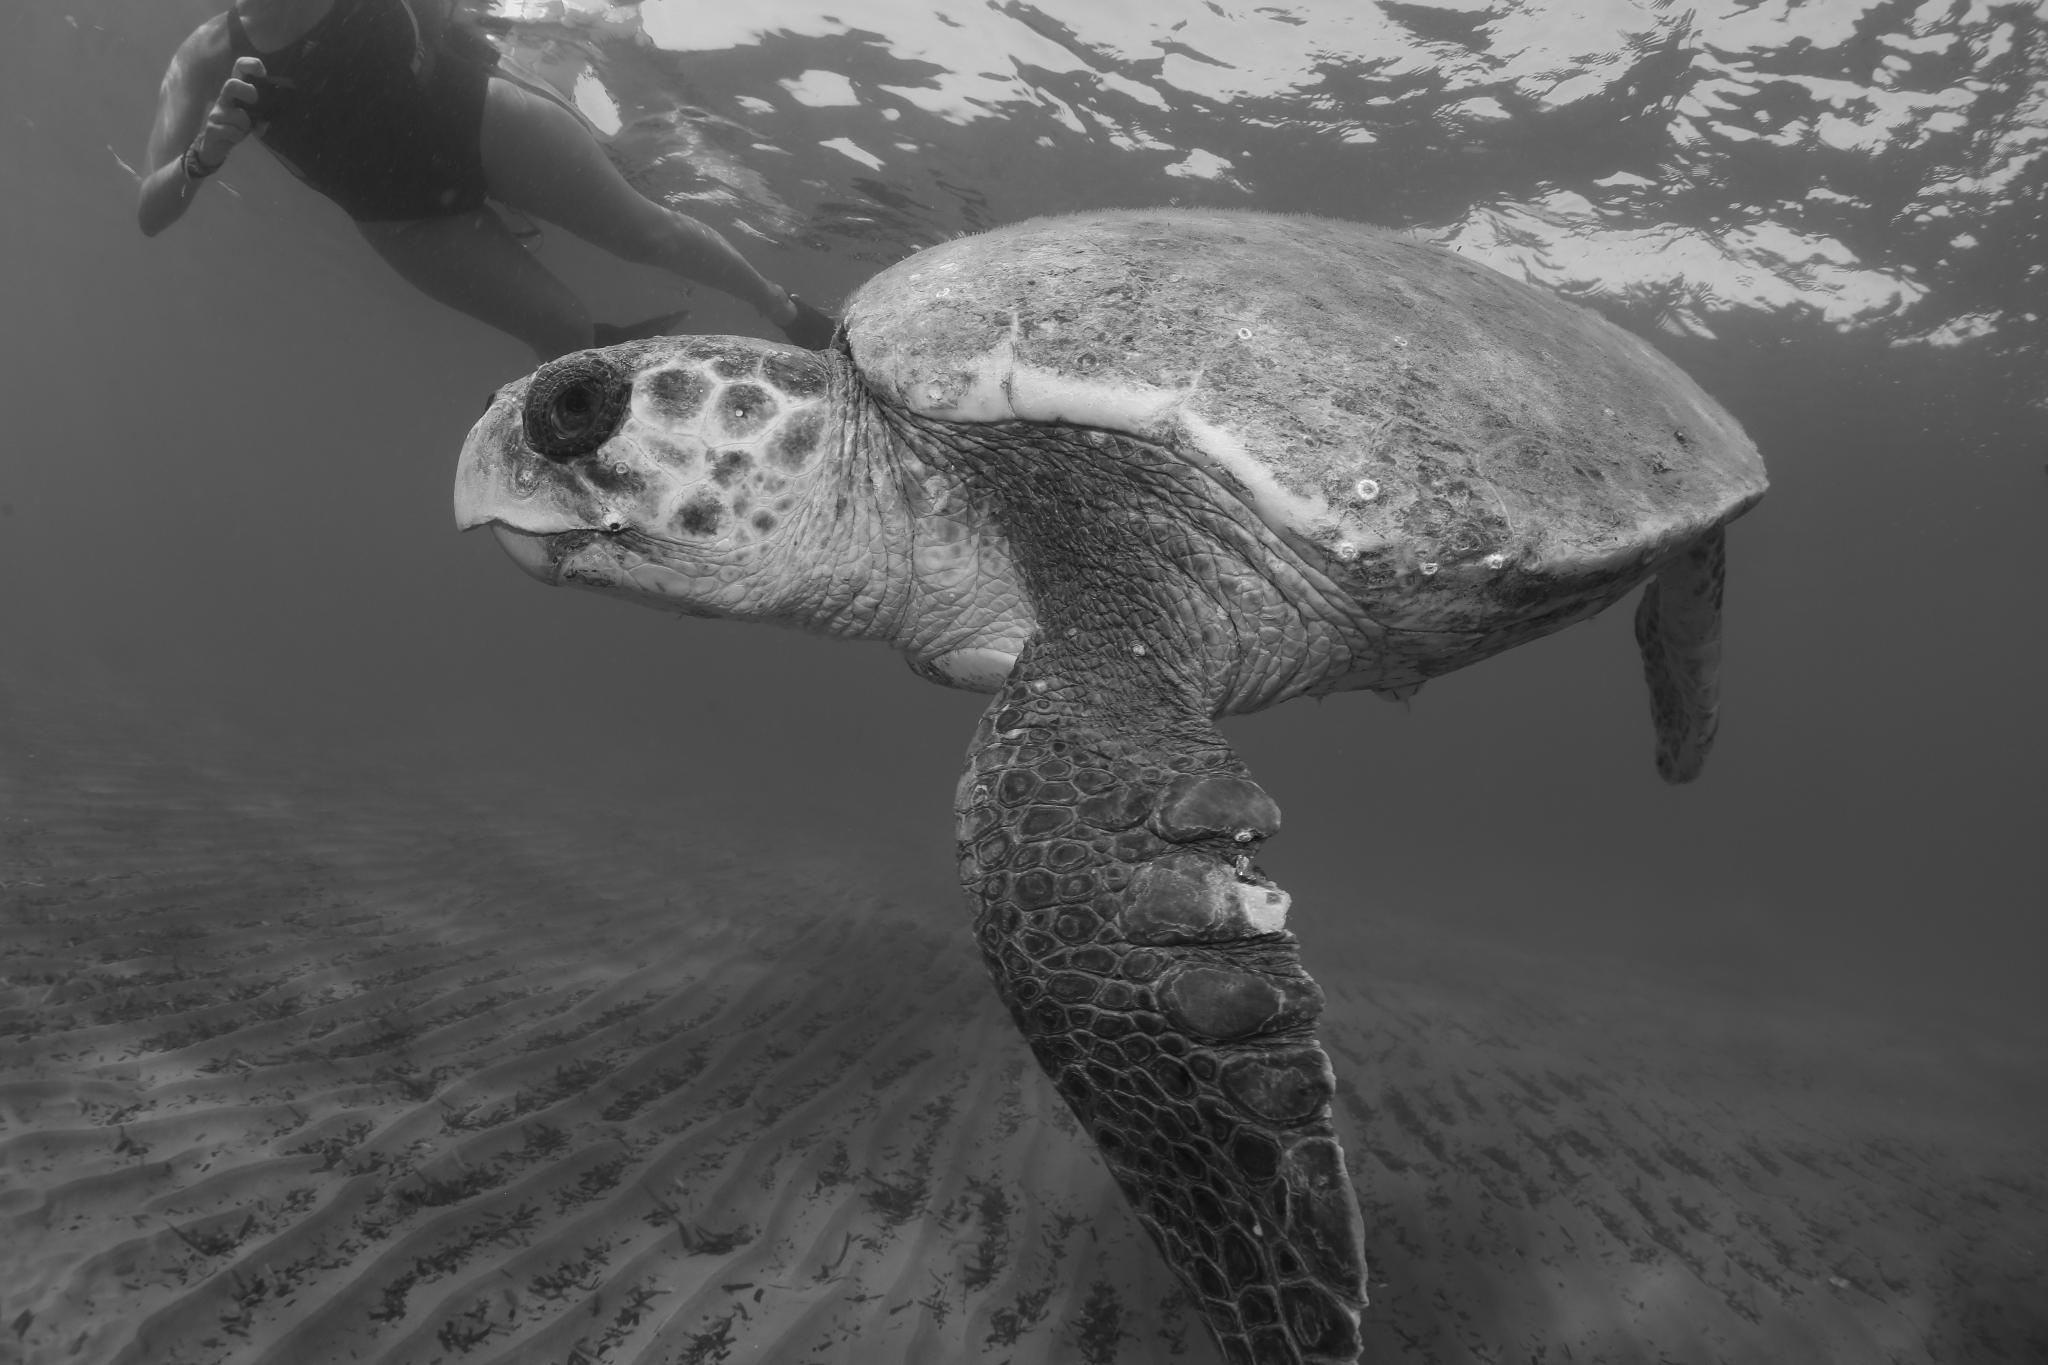Head: (455, 336, 864, 635)
